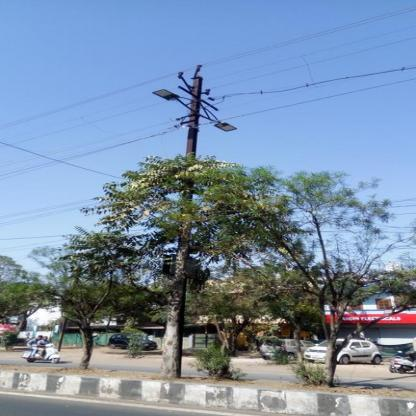Electrical Pole: (113, 61, 248, 380)
